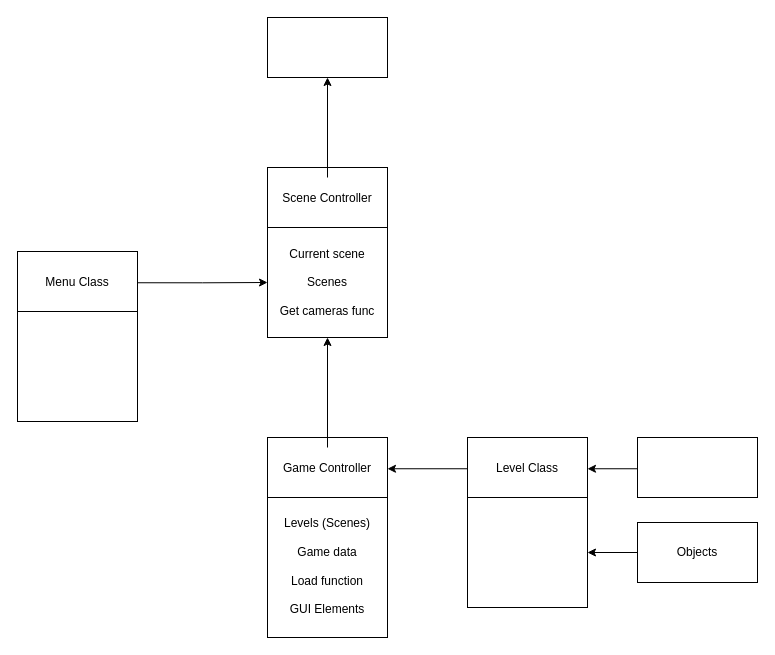
This 775x655 diagram has some shape labels left out. Each missing label, with the centre of its shape:
"Camera Sprites Physics" goes at (527,552).
"Camera UI Elements Update function" goes at (77,366).
"External Player" goes at (697,467).
"Main display" goes at (327,47).
